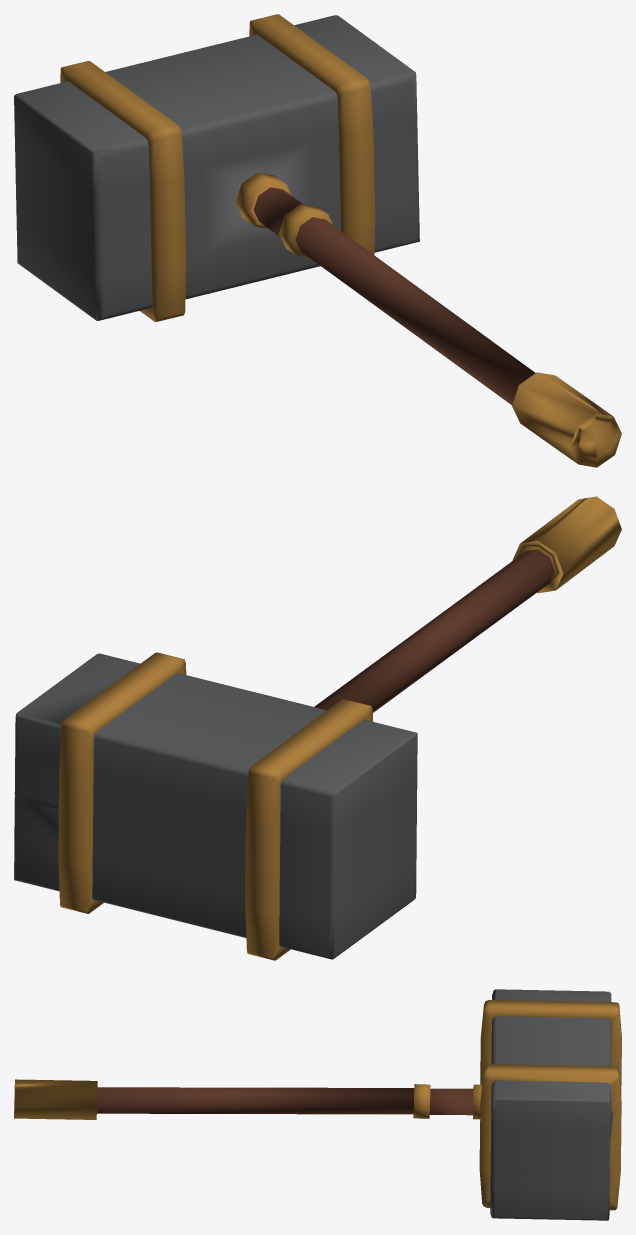
The model's file is hammer.fbx.
The picture shows the model from 3 angles, top to bottom: view 1: azimuth 30°, elevation 25°; view 2: azimuth 150°, elevation 25°; view 3: azimuth 270°, elevation 25°; orthographic projection. The views are drawn at different scales.
Visible parts, largest first — view 1: Cube; view 2: Cube; view 3: Cube.
Part boxes in pixels (left/top/right/bottom): Cube: left=14, top=14, right=621, bottom=467; Cube: left=14, top=496, right=621, bottom=960; Cube: left=14, top=989, right=621, bottom=1220.
Bounding box in the file's own units: 1 × 0.5642 × 2.28.
